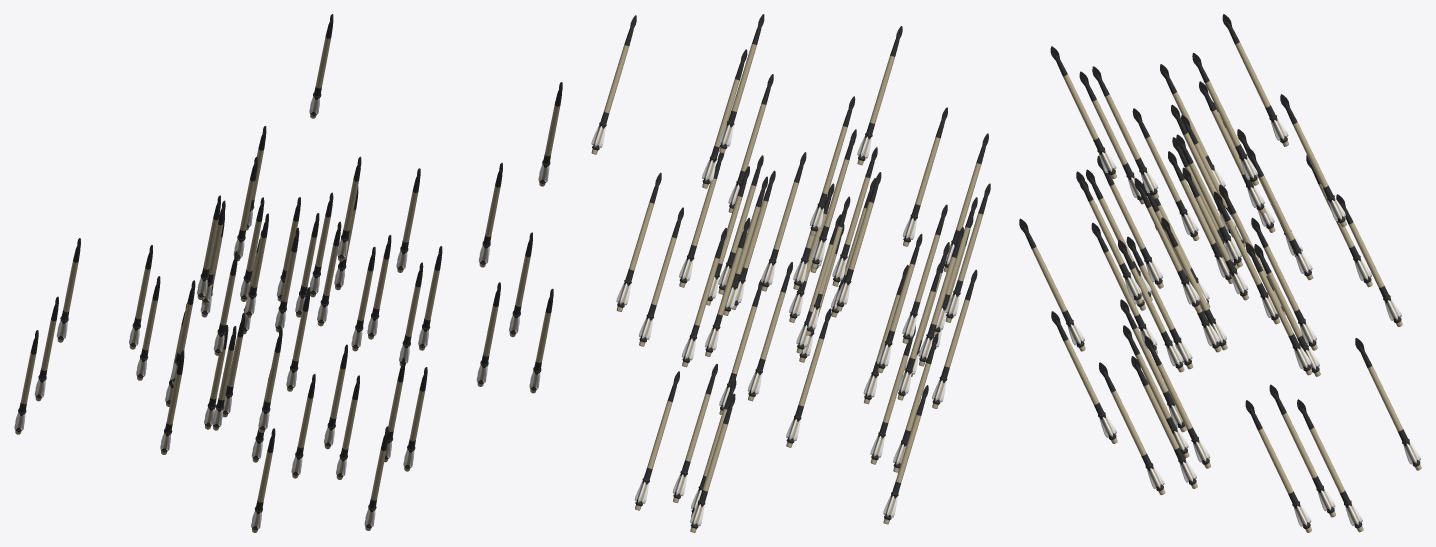
3 renders of one model, left to right at view 1: azimuth 30°, elevation 25°; view 2: azimuth 150°, elevation 25°; view 3: azimuth 270°, elevation 25°, orthographic. The views are drawn at different scales.
Visible parts, largest first — view 1: D4; view 2: D4; view 3: D4.
Part boxes in pixels (x1,y1,x2,y2): D4: (14, 14, 562, 532); D4: (591, 14, 990, 532); D4: (1019, 14, 1421, 532).
Size of the model in its own units: 1.17 by 1.3 by 0.9614.
